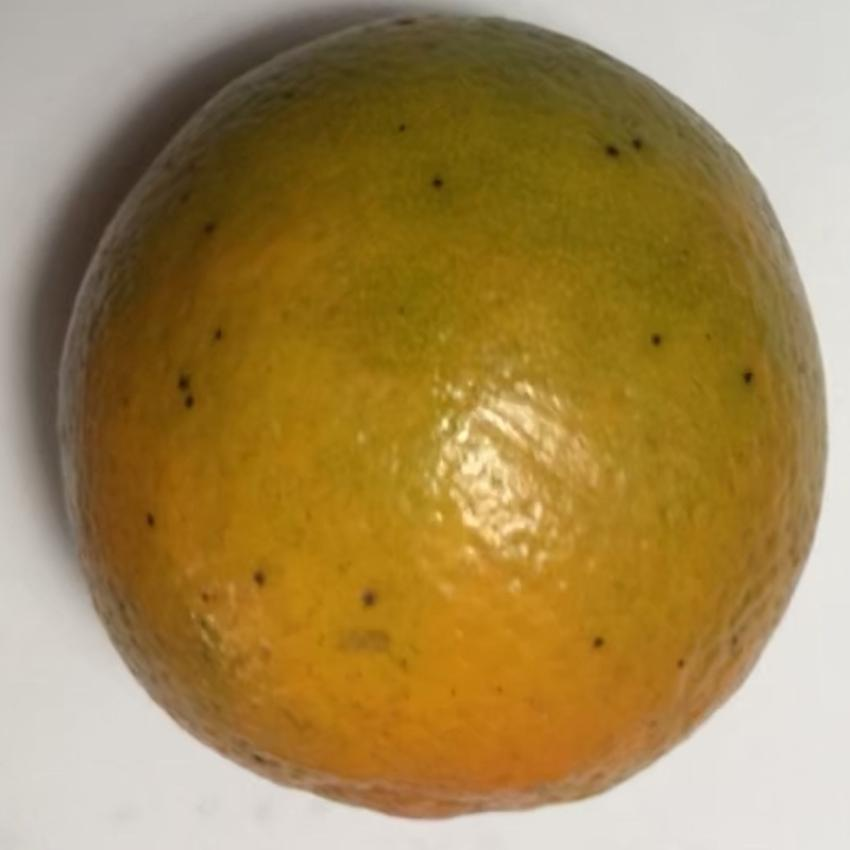Mal estado: (25, 6, 834, 825)
